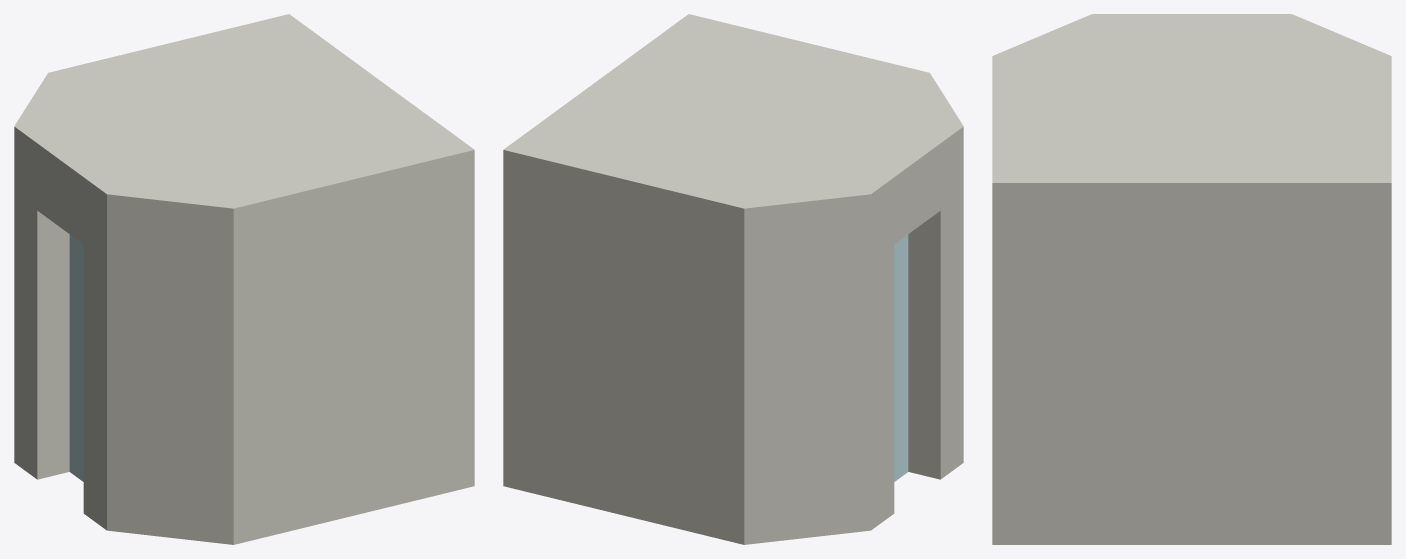
The model's file is Building Story 33.fbx.
The picture shows the model from 3 angles, left to right: view 1: azimuth 30°, elevation 25°; view 2: azimuth 150°, elevation 25°; view 3: azimuth 270°, elevation 25°; orthographic projection. The views are drawn at different scales.
Visible parts, largest first — view 1: Building Story 33; view 2: Building Story 33; view 3: Building Story 33.
Boxes of the visible parts, <box> form: Building Story 33: <box>14,14,474,544</box>; Building Story 33: <box>503,14,963,544</box>; Building Story 33: <box>992,14,1391,544</box>.
Size of the model in its own units: 1 by 1 by 1.
